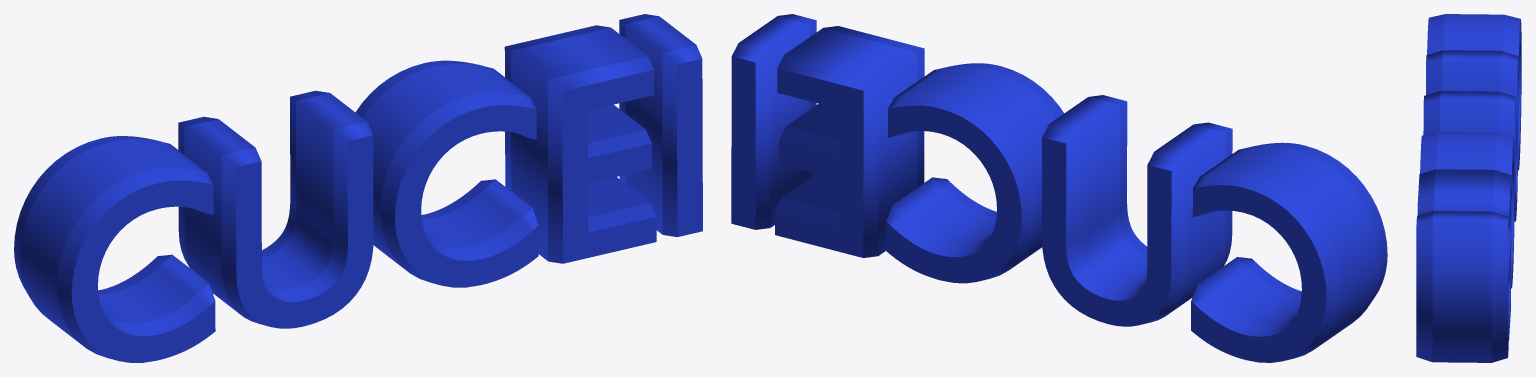
File: textCucei.fbx
The picture shows the model from 3 angles, left to right: view 1: azimuth 30°, elevation 25°; view 2: azimuth 150°, elevation 25°; view 3: azimuth 270°, elevation 25°; orthographic projection. The views are drawn at different scales.
Visible parts, largest first — view 1: Text; view 2: Text; view 3: Text.
Part boxes in pixels (left/top/right/bottom): Text: left=14, top=14, right=702, bottom=362; Text: left=731, top=14, right=1387, bottom=362; Text: left=1416, top=14, right=1521, bottom=362.
Size of the model in its own units: 375 by 106 by 71.09.
